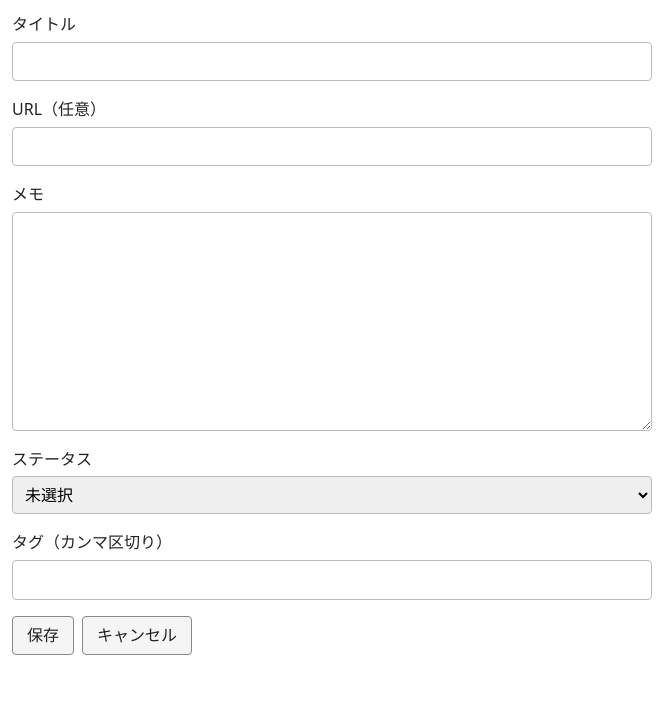
Scenario: 必須項目が空なら項目ごとにエラーを出し、送信しない
The image size is (669, 724).
Click the button "保存" at x=43, y=635, box [12,616,74,655]
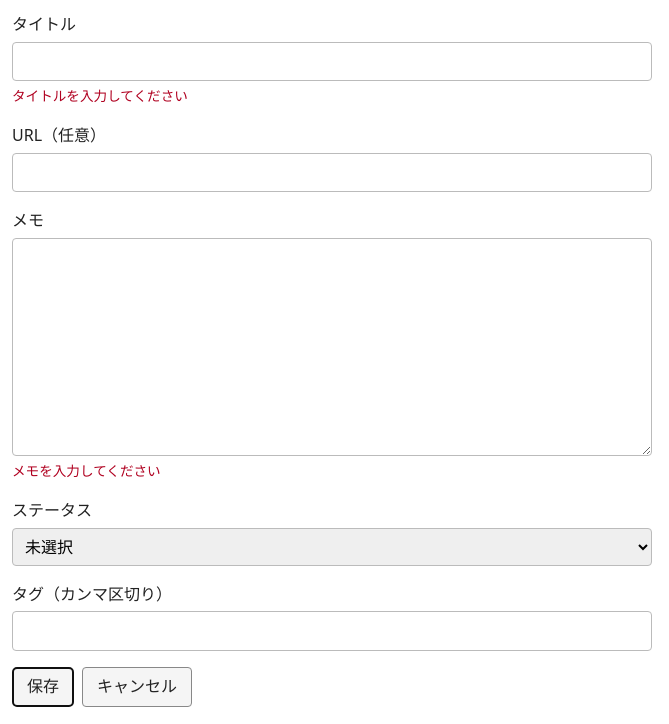
Check: the text "タイトルを入力してください" is shown, box [12,86,188,105]
Check: the text "メモを入力してください" is shown, box [12,462,161,480]
